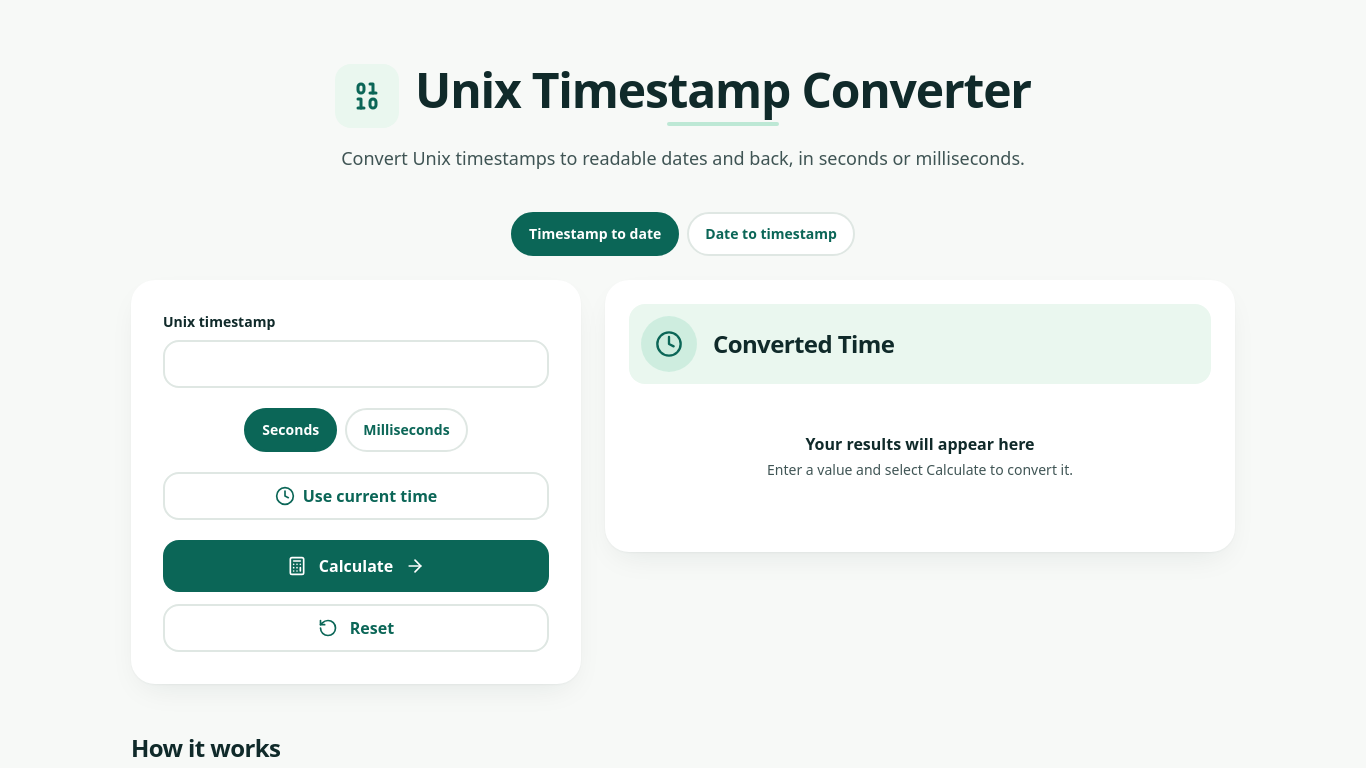
Test case: Unix Timestamp Converter › warns about the wrong unit
Step 1. Type "1700000000000" into the field labelled "Unix timestamp" → (356, 364), box [163,340,549,388]
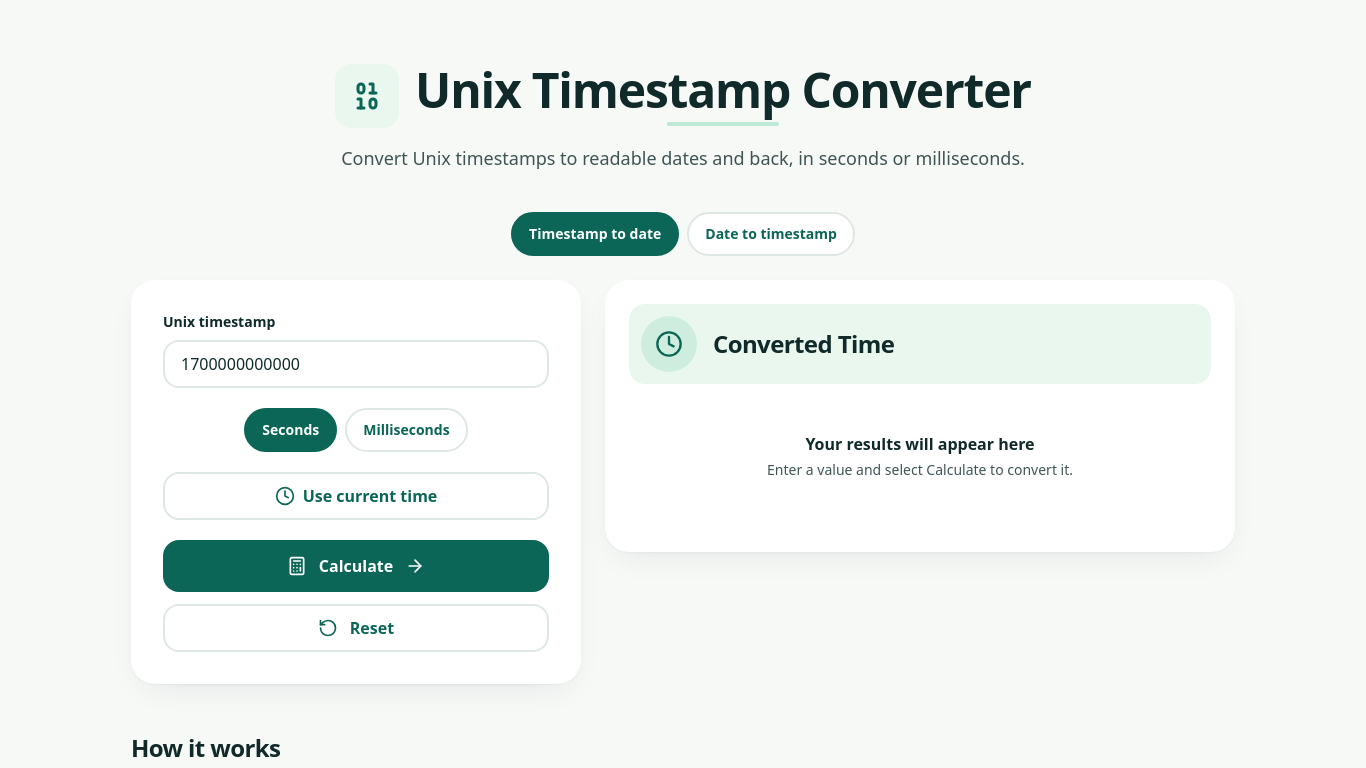
Step 2. Click the button "Calculate" → (356, 566), box [163,540,549,592]
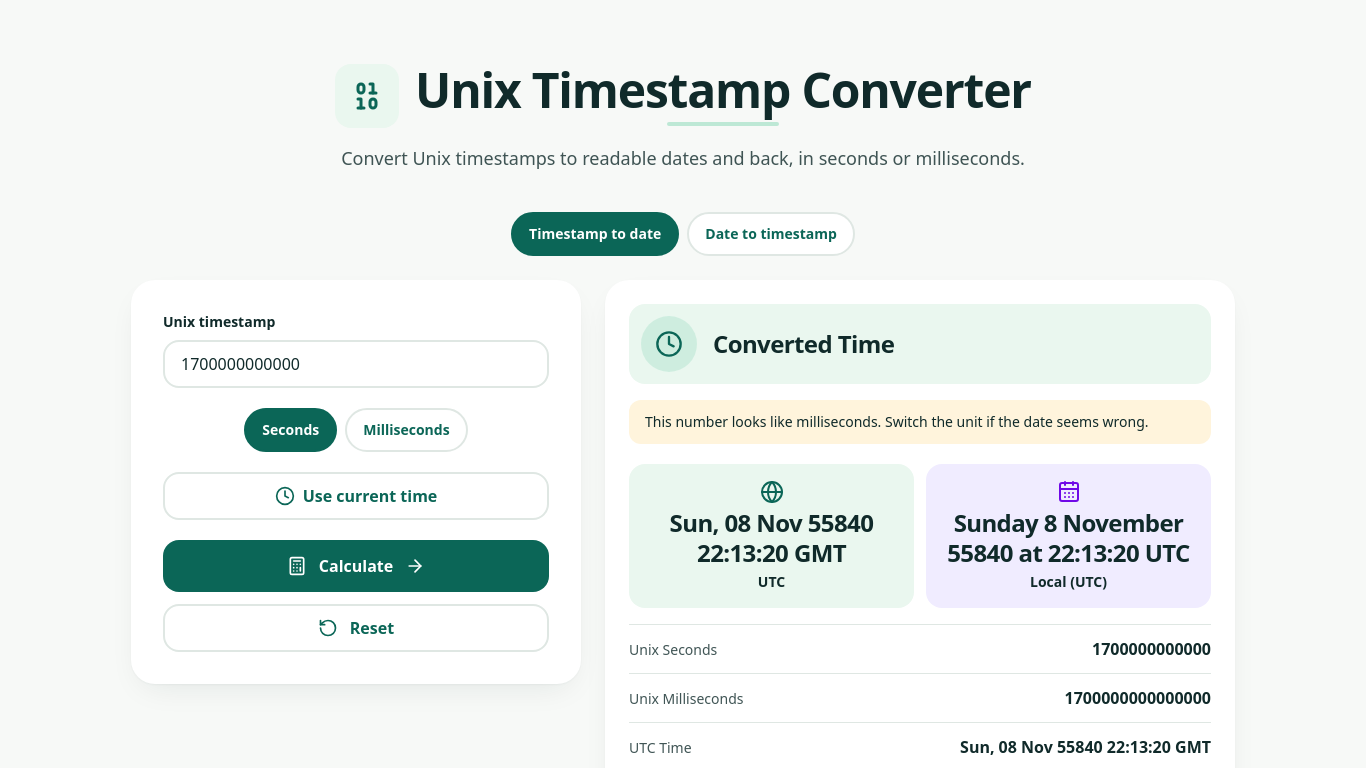
Expected: the text "looks like milliseconds" is shown, [645,412,1148,431]
